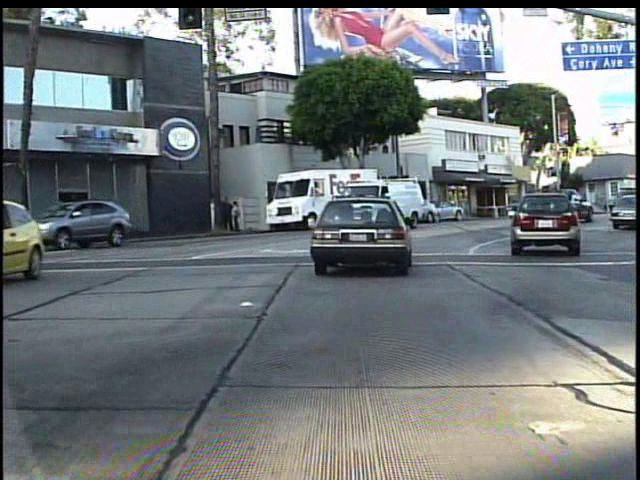person: (220, 194, 235, 234), (231, 199, 245, 235)
